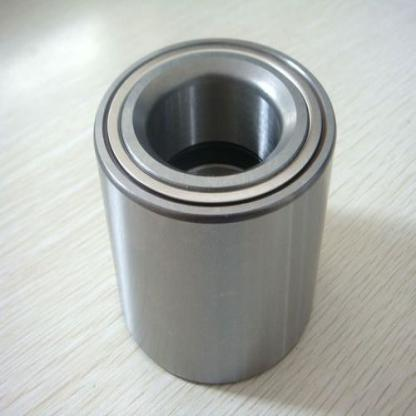FOD: (91, 33, 342, 398)
